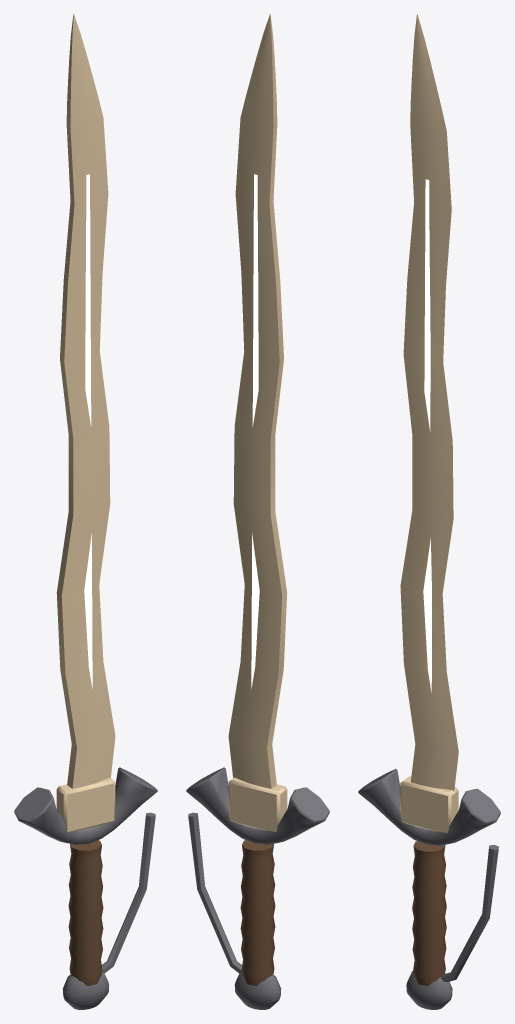
Rendered from depth_moonwell_flamberge.glb.
3 renders of one model, left to right at view 1: azimuth 30°, elevation 25°; view 2: azimuth 150°, elevation 25°; view 3: azimuth 330°, elevation 25°, orthographic.
Parts seen in each view (by area): view 1: depth_moonwell_flamberge; view 2: depth_moonwell_flamberge; view 3: depth_moonwell_flamberge.
Part boxes in pixels (x1,y1,x2,y2): depth_moonwell_flamberge: (14, 14, 157, 1009); depth_moonwell_flamberge: (186, 14, 329, 1009); depth_moonwell_flamberge: (358, 14, 500, 1009).
Size of the model in its own units: 0.1689 by 1.17 by 0.0428.
